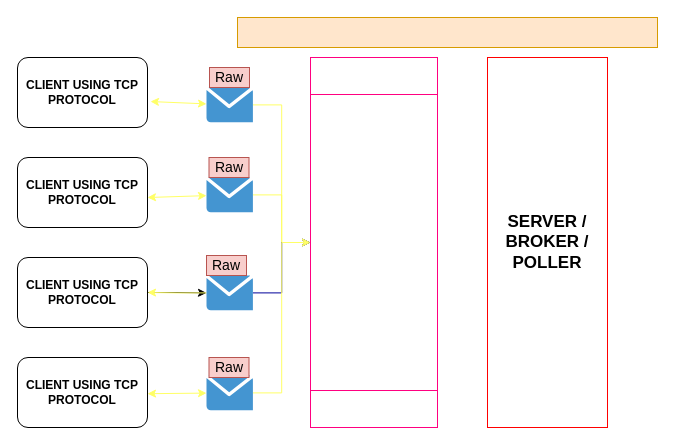
This 675x445 diagram has some shape labels left out. Each missing label, with the centre of its shape:
"setsockopt (socket, ZMQ_ROUTER_RAW, 1,0)" goes at [447,32].
"ZMQ ROUTER-RAW" goes at [374,242].
